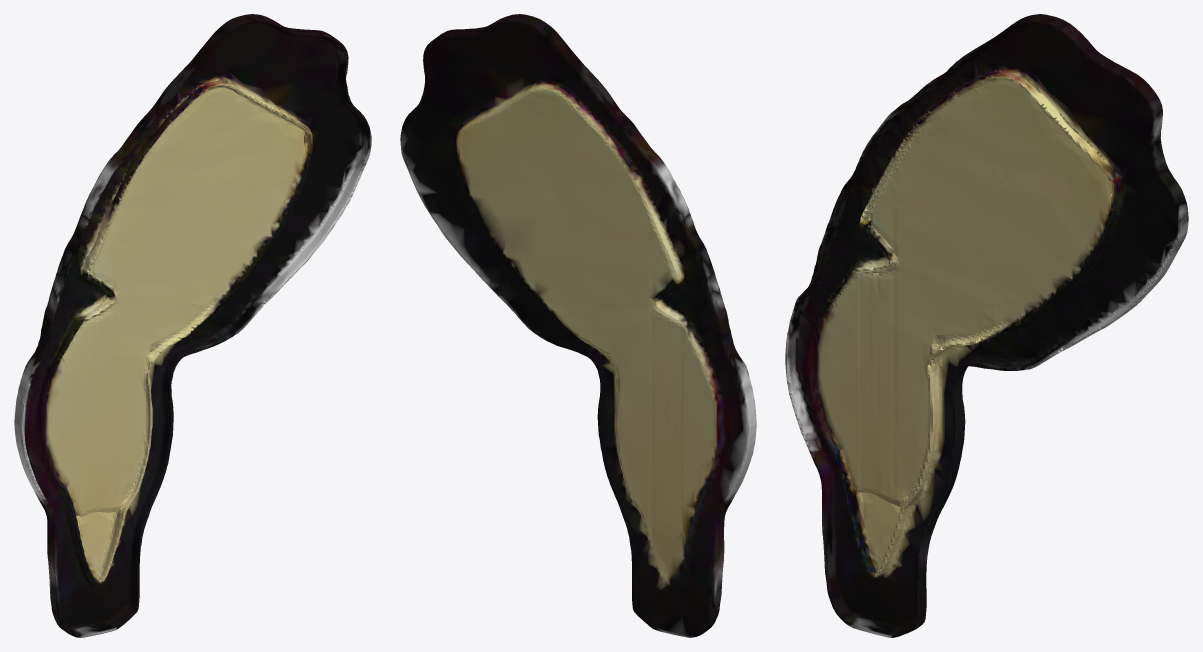
The model's file is leg.glb.
The picture shows the model from 3 angles, left to right: view 1: azimuth 30°, elevation 25°; view 2: azimuth 150°, elevation 25°; view 3: azimuth 330°, elevation 25°; orthographic projection. The views are drawn at different scales.
Parts seen in each view (by area): view 1: geometry_0; view 2: geometry_0; view 3: geometry_0.
Boxes of the visible parts, x1,y1,x2,y2 form: geometry_0: [14, 14, 371, 637]; geometry_0: [400, 14, 756, 637]; geometry_0: [785, 14, 1188, 637].
Size of the model in its own units: 0.3438 by 0.5416 by 0.021.
